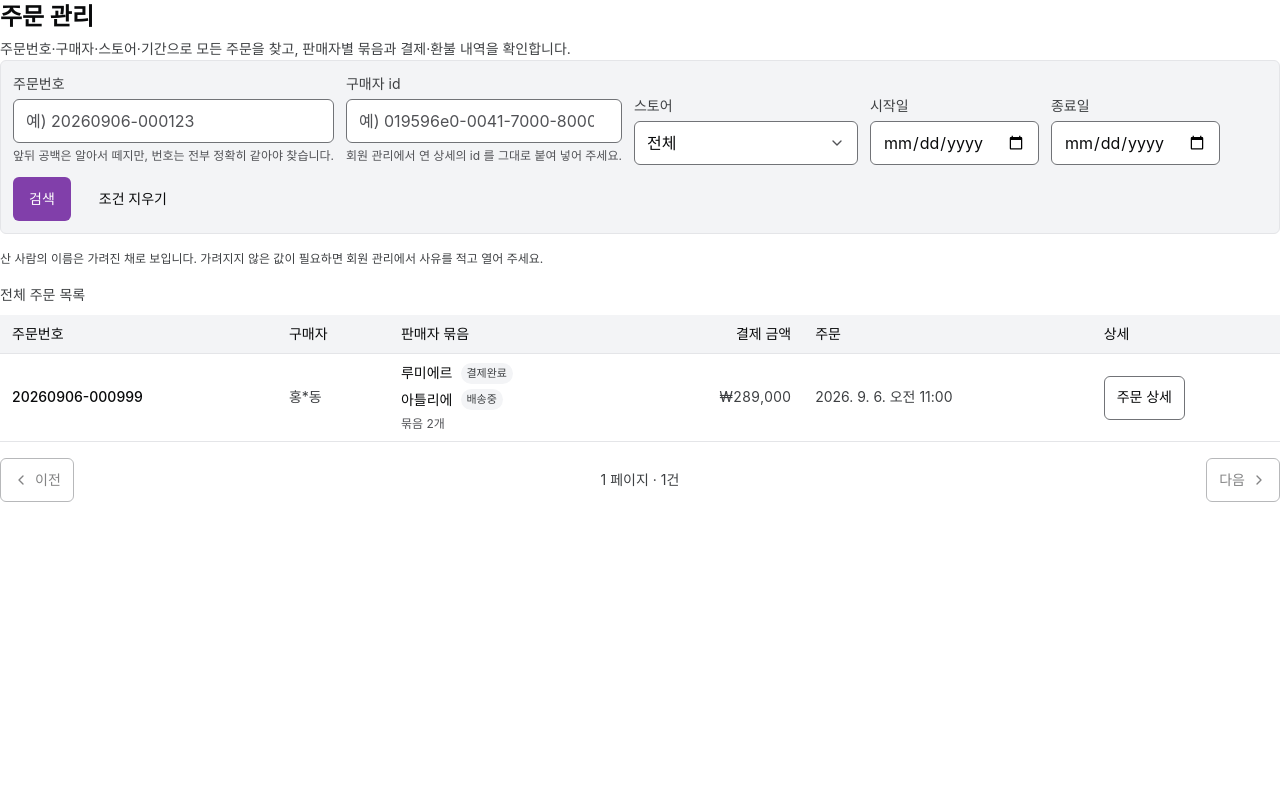
Test: 주문 상세 (F5 · F6 · F7) › lists the bundles again without asking the API for them
Expected: the table "전체 주문 목록" is shown, [0,284,1279,442]
Click the button "주문 상세". click: x=1144, y=398
box: [1104,376,1185,420]
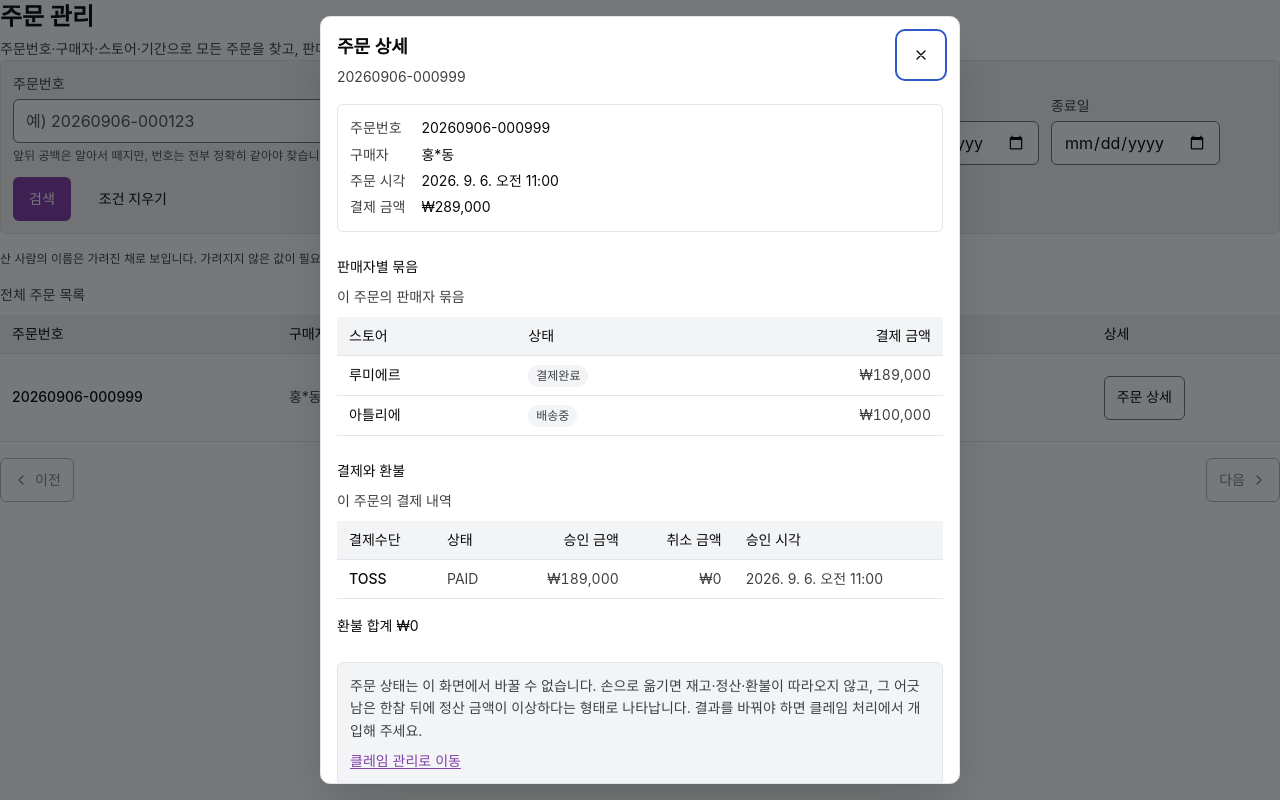
Now the column heading "루미에르" is shown, box [337,356,516,396]
Now the column heading "아틀리에" is shown, box [337,396,516,436]
